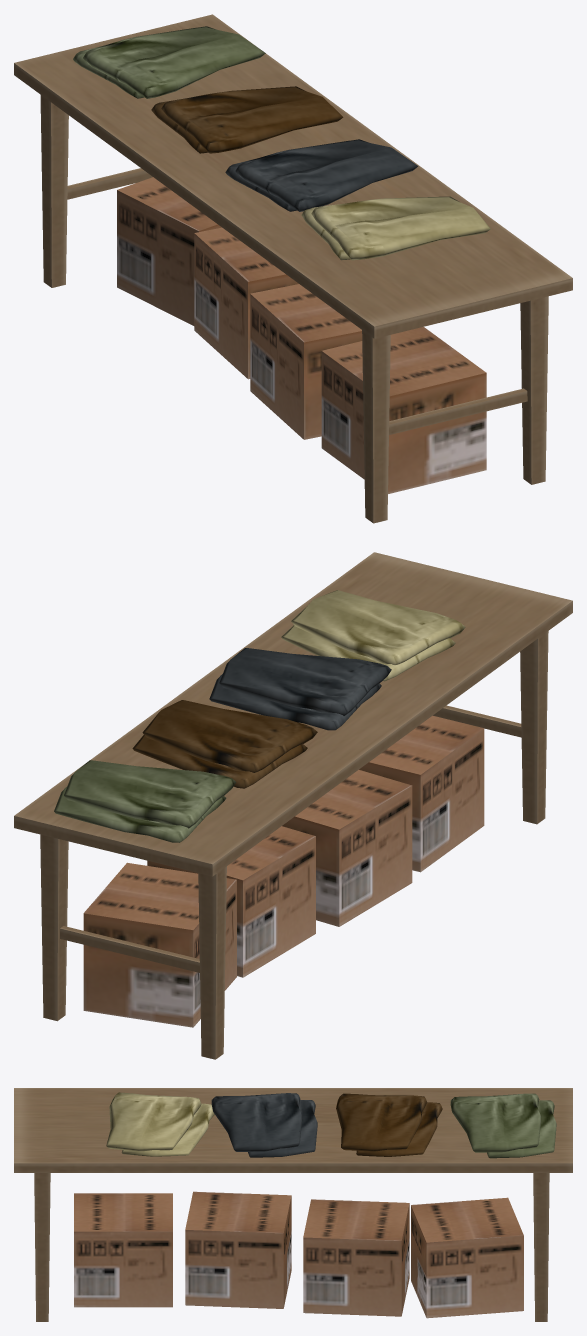
File: dressoir.FBX
3 renders of one model, top to bottom at view 1: azimuth 30°, elevation 25°; view 2: azimuth 150°, elevation 25°; view 3: azimuth 270°, elevation 25°, orthographic. The views are drawn at different scales.
Visible parts, largest first — view 1: dressoir; view 2: dressoir; view 3: dressoir.
Part boxes in pixels (<box>): dressoir: <box>14,14,572,523</box>; dressoir: <box>14,552,572,1059</box>; dressoir: <box>14,1088,572,1321</box>.
Size of the model in its own units: 61.03 by 67.44 by 192.
1 material, 1 textured.
